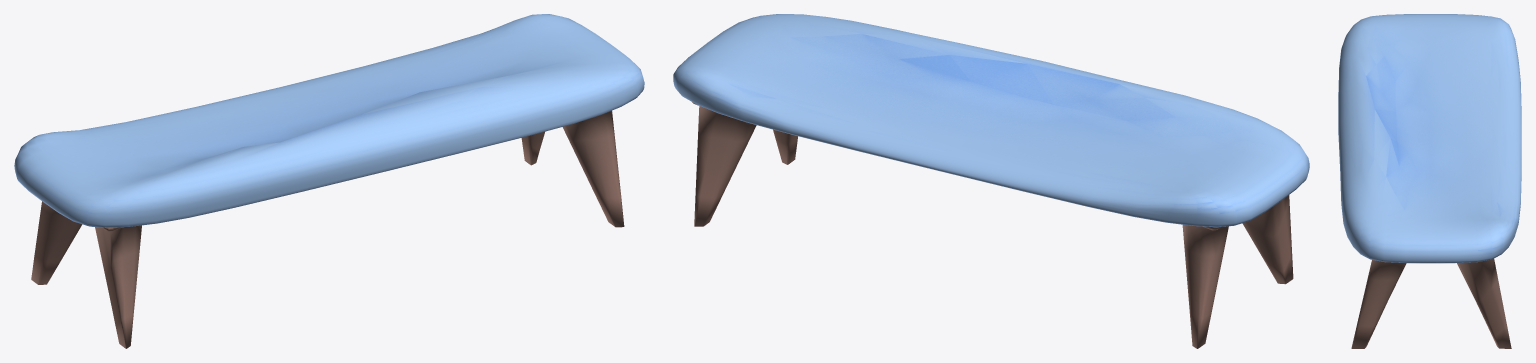
Rendered from basic chair.fbx.
3 renders of one model, left to right at view 1: azimuth 30°, elevation 25°; view 2: azimuth 150°, elevation 25°; view 3: azimuth 270°, elevation 25°, orthographic. The views are drawn at different scales.
Parts seen in each view (by area): view 1: Cube, Cube.004, Cube.003; view 2: Cube, Cube.004, Cube.003; view 3: Cube, Cube.003.
Part boxes in pixels (box(x1,y1,x2,y2)): Cube: box(14, 14, 644, 227); Cube.004: box(31, 201, 141, 348); Cube.003: box(521, 110, 624, 227); Cube: box(673, 14, 1309, 226); Cube.004: box(1182, 195, 1293, 348); Cube.003: box(692, 102, 797, 226); Cube: box(1338, 14, 1521, 263); Cube.003: box(1351, 256, 1511, 348).
Size of the model in its own units: 548 by 148 by 179.
